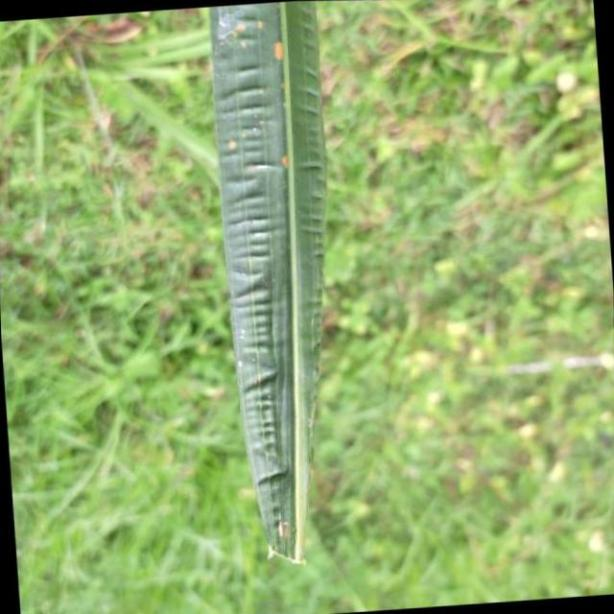Boron: (209, 0, 328, 566)
